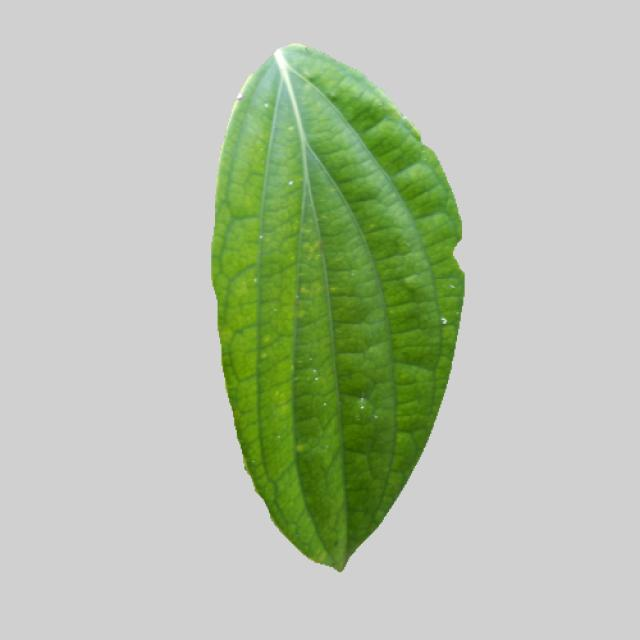healthy: (198, 35, 469, 583)
